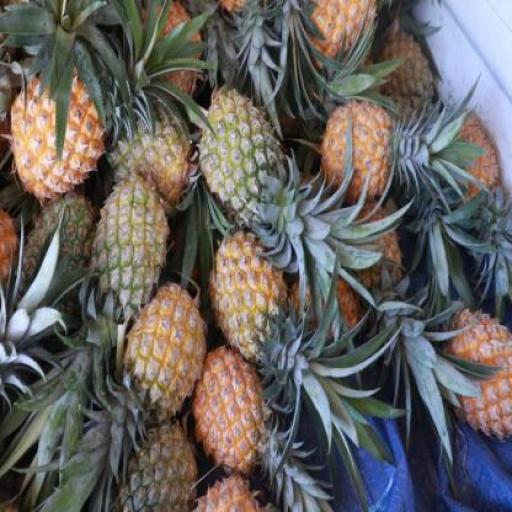------------------------------: (126, 285, 204, 420), (199, 90, 277, 218), (96, 178, 166, 312), (194, 346, 265, 472), (111, 114, 188, 202), (202, 455, 284, 512)
Pineapple - v8 v1: (10, 75, 103, 206), (210, 232, 284, 349), (447, 312, 511, 440), (322, 98, 392, 200)
